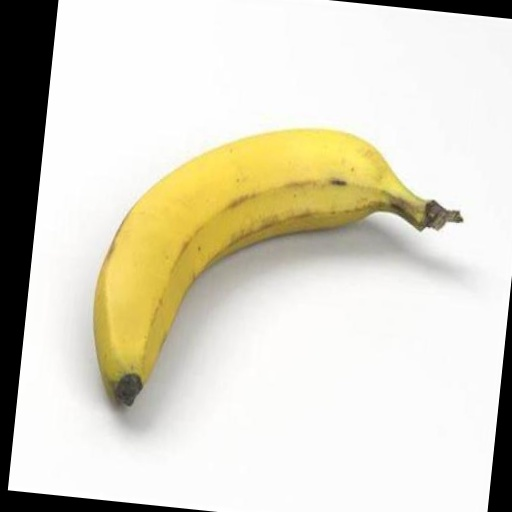fruit: (93, 129, 460, 404)
